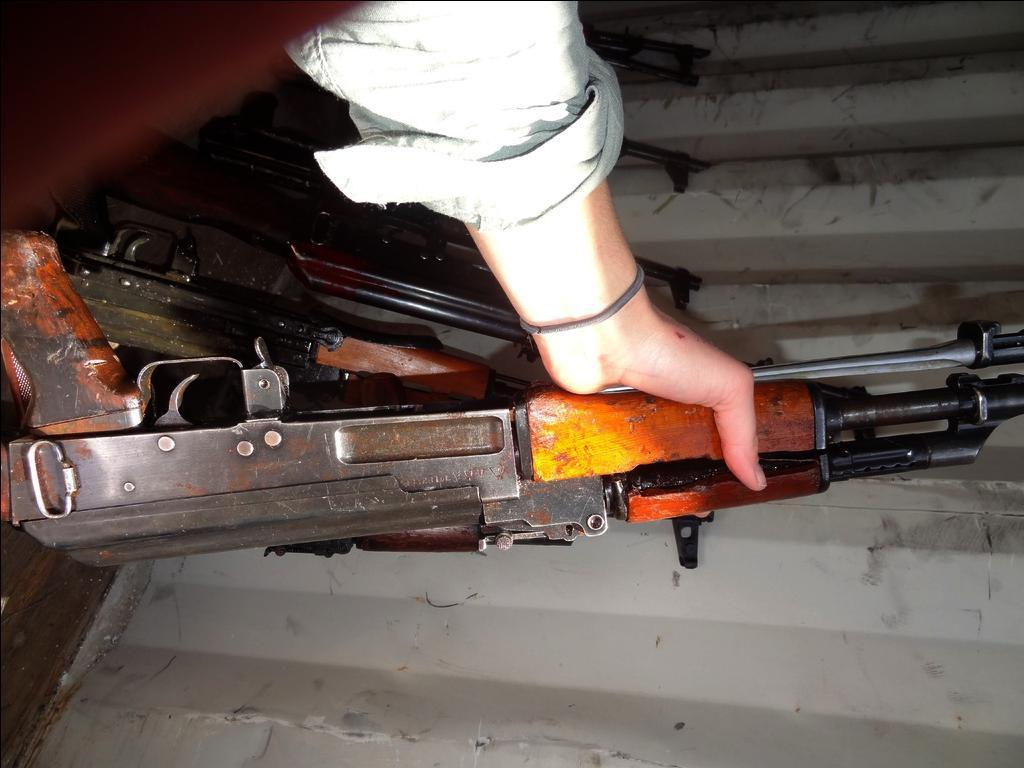gun: (0, 195, 1024, 587)
